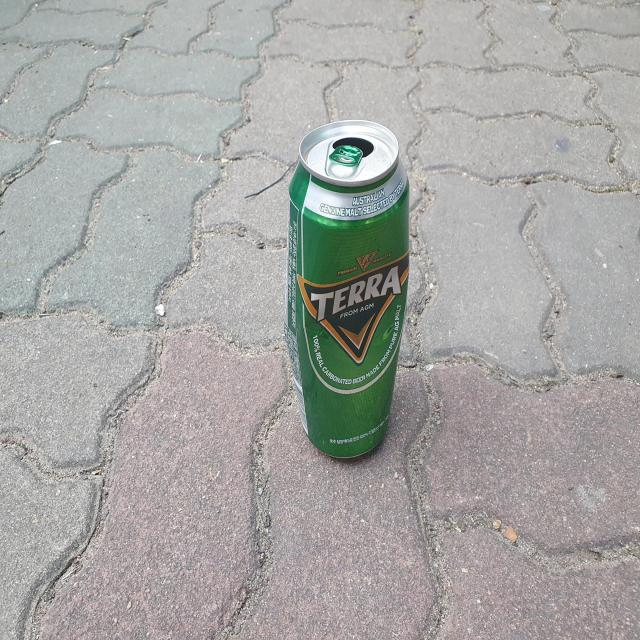can: (285, 119, 410, 458)
